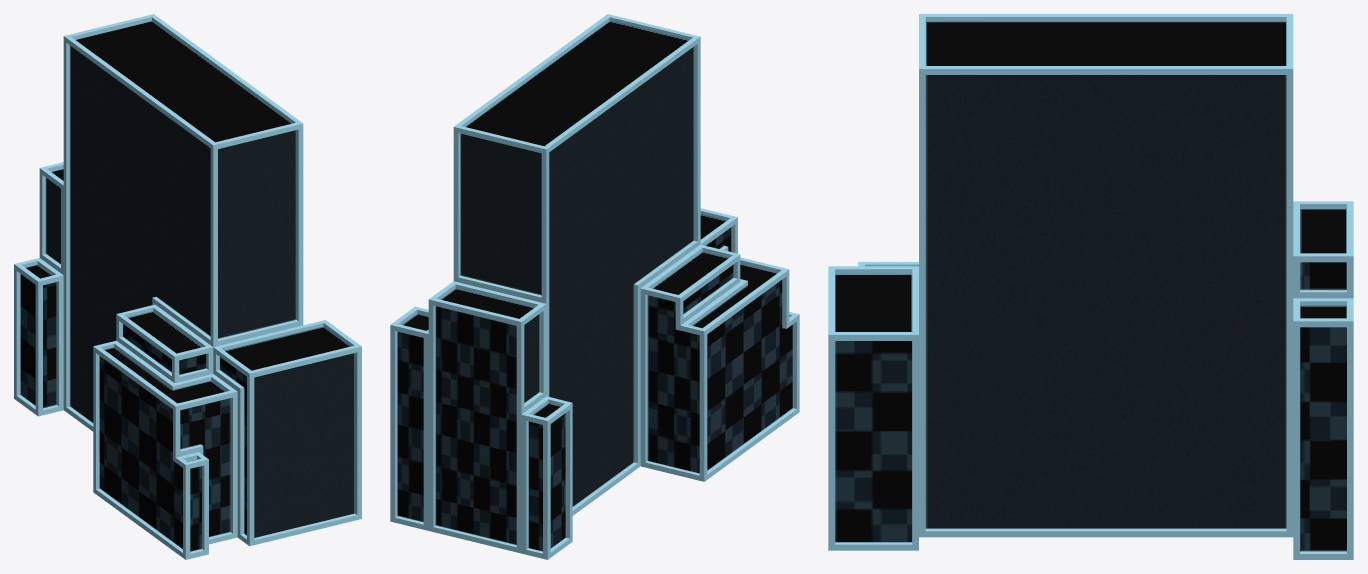
The model's file is block2_b2_MESH.fbx.
The picture shows the model from 3 angles, left to right: view 1: azimuth 30°, elevation 25°; view 2: azimuth 150°, elevation 25°; view 3: azimuth 270°, elevation 25°; orthographic projection. The views are drawn at different scales.
Visible parts, largest first — view 1: block2_b2_MESH; view 2: block2_b2_MESH; view 3: block2_b2_MESH.
Boxes of the visible parts, x1,y1,x2,y2 form: block2_b2_MESH: (14,14,361,559); block2_b2_MESH: (390,14,799,559); block2_b2_MESH: (828,14,1353,559).
Bounding box in the file's own units: 2618 × 5033 × 4948.
